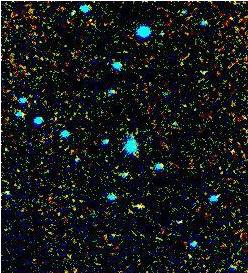star: (127, 192, 157, 222)
